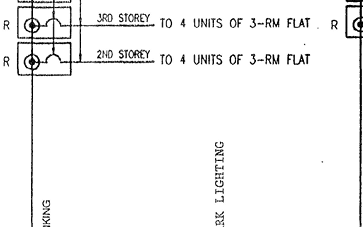Single Phase Tap-Off Unit: (12, 41, 76, 79), (10, 5, 76, 41)
